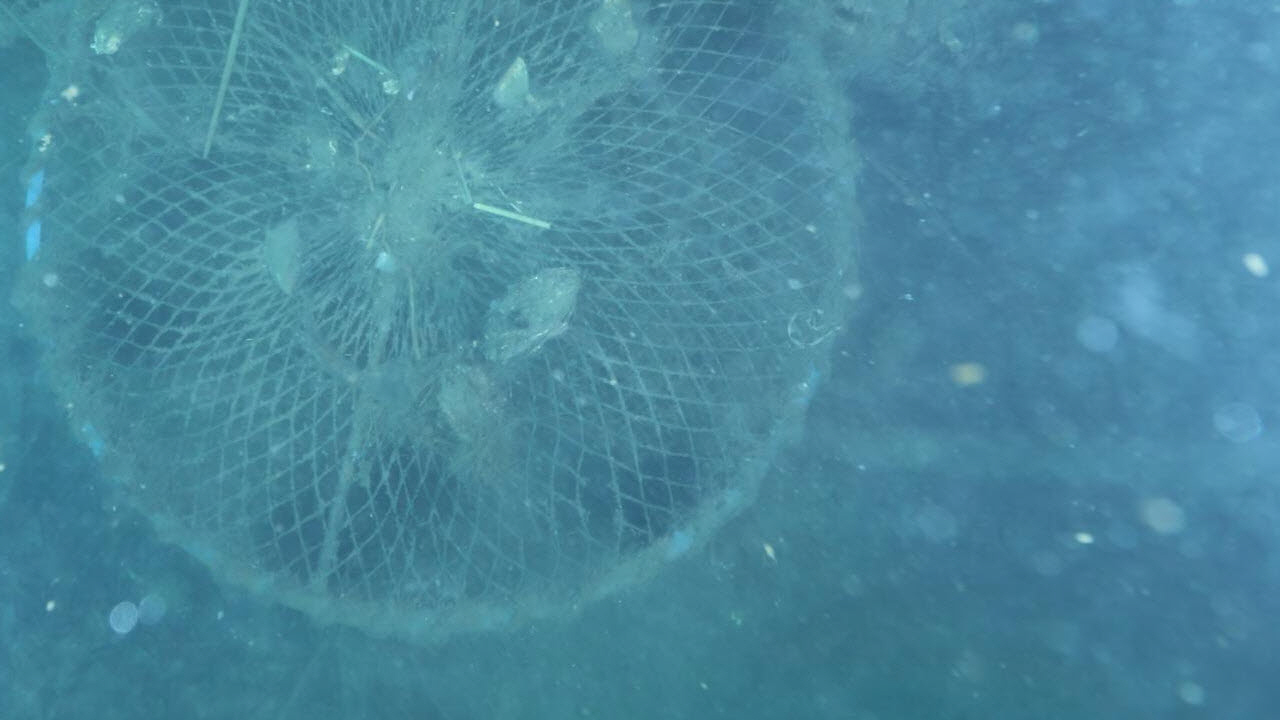circular fish trap: (15, 0, 859, 641)
